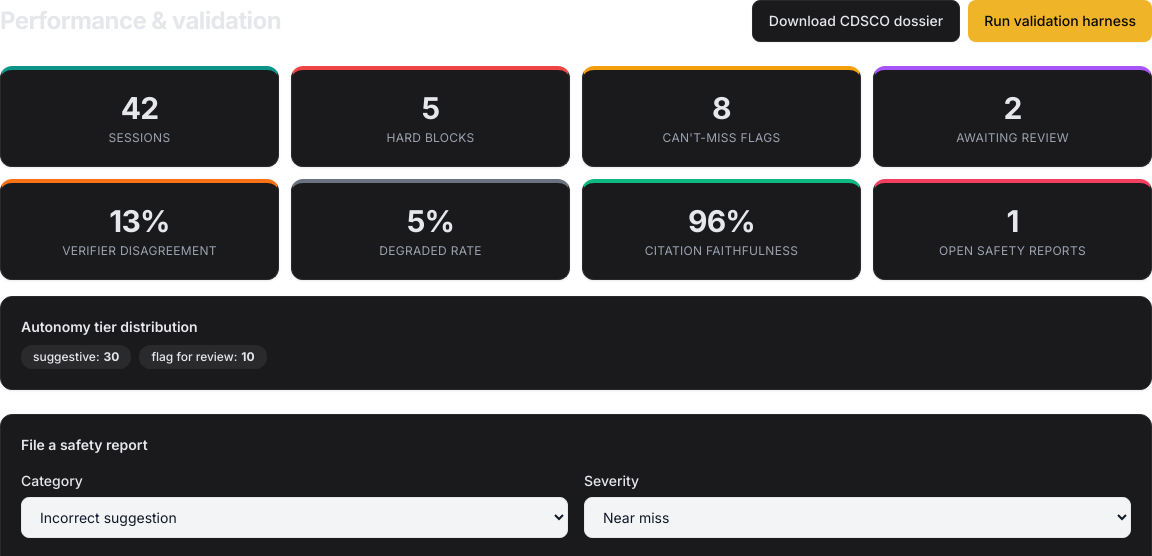
Test case: MetricsPage › downloads the CDSCO dossier in markdown
Expected: the text "42" is shown, [121, 90, 158, 126]
Click the button "Download CDSCO dossier".
click(856, 21)  # box [752, 0, 960, 42]
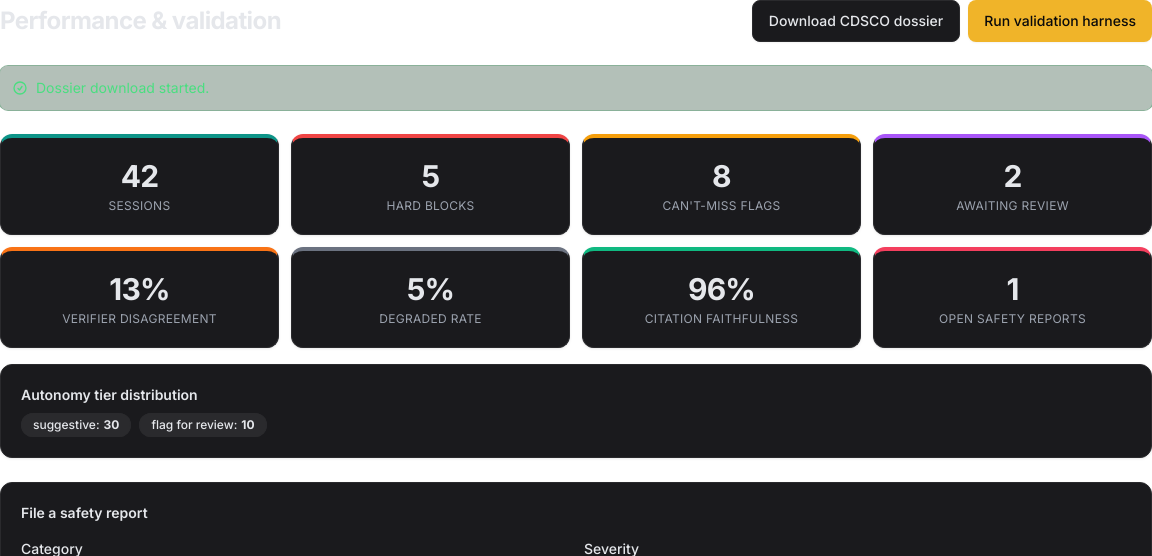
Now the text "Dossier download started." is shown, box [36, 78, 209, 98]
